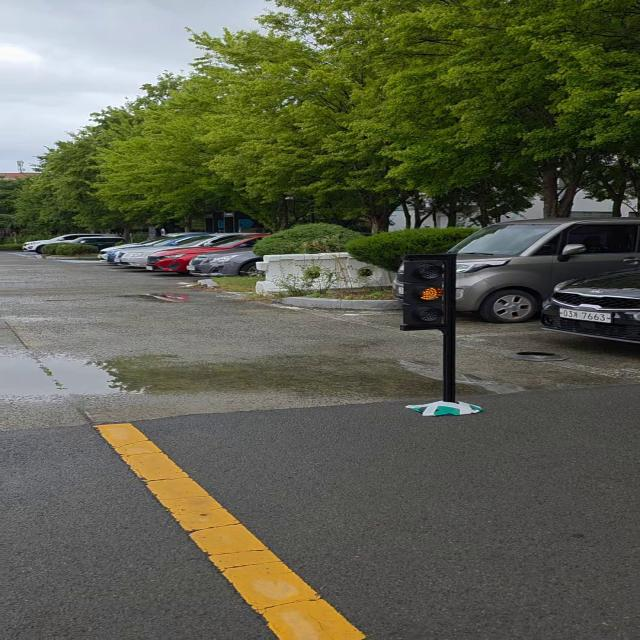yellow: (404, 254, 456, 332)
